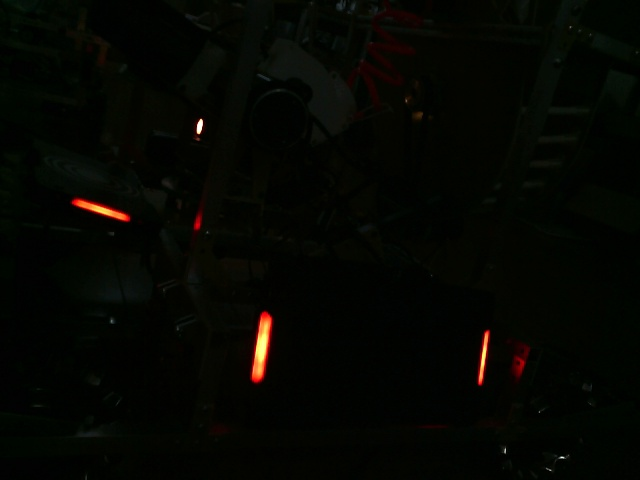lamp: (247, 308, 275, 388), (475, 326, 494, 392)
